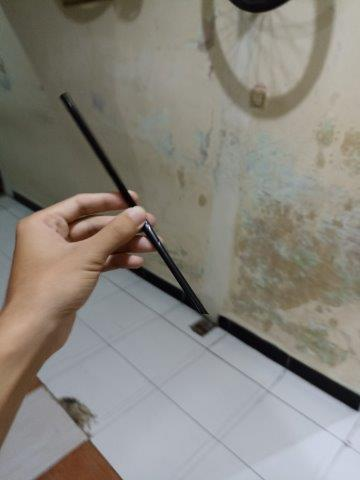sedotan: (60, 95, 209, 314)
